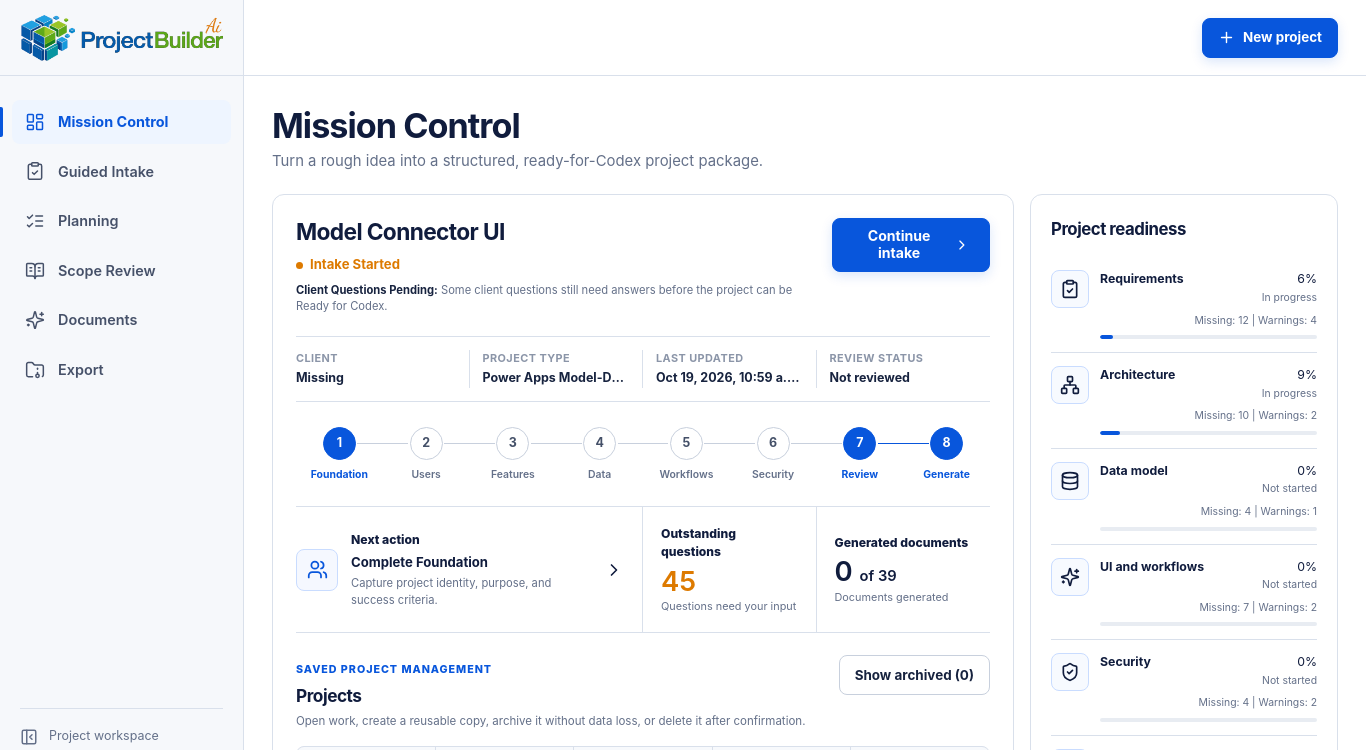
App - power Platform Model Driven › renders model-driven connector editor without legacy connector checkboxes
The image size is (1366, 750).
Click the button "4 Data".
click(600, 454)  # box [556, 426, 643, 482]
(page scrolled)
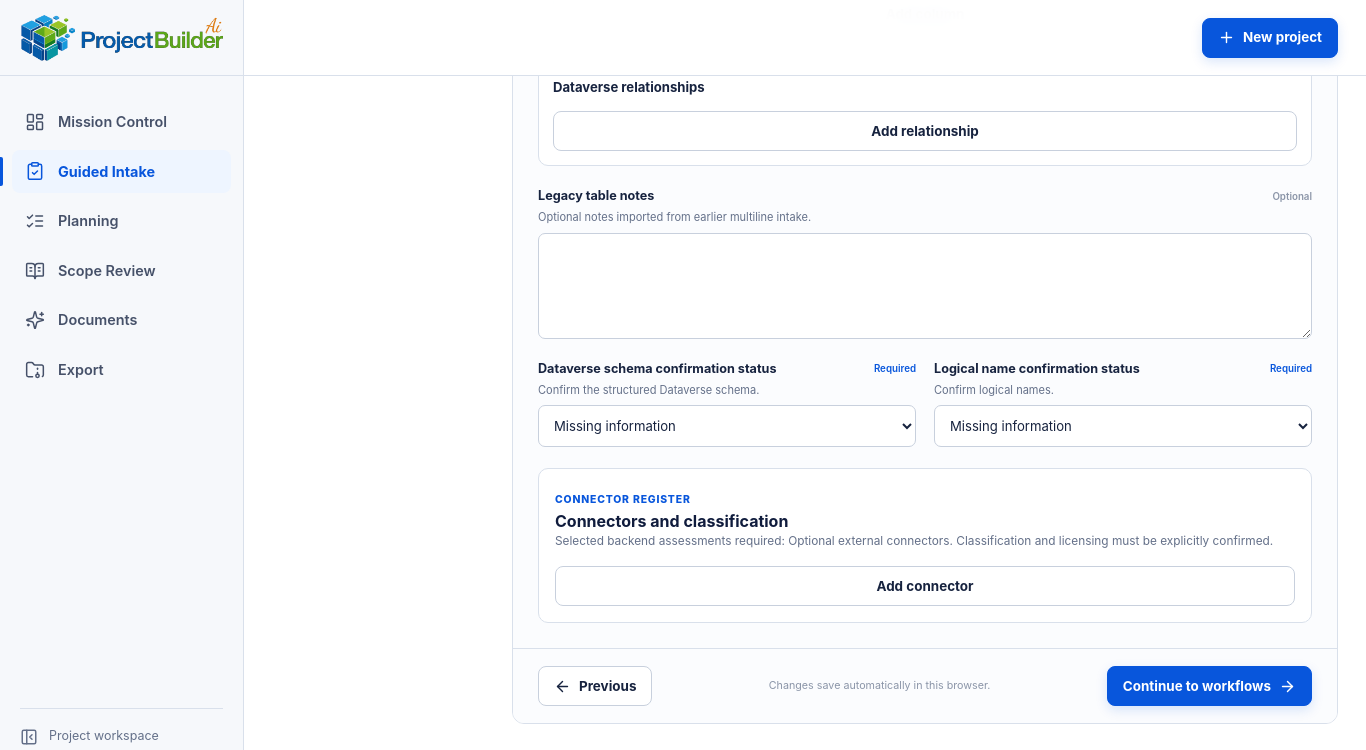
Click the button "Add connector".
click(925, 586)  # box [555, 566, 1295, 606]
(page scrolled)
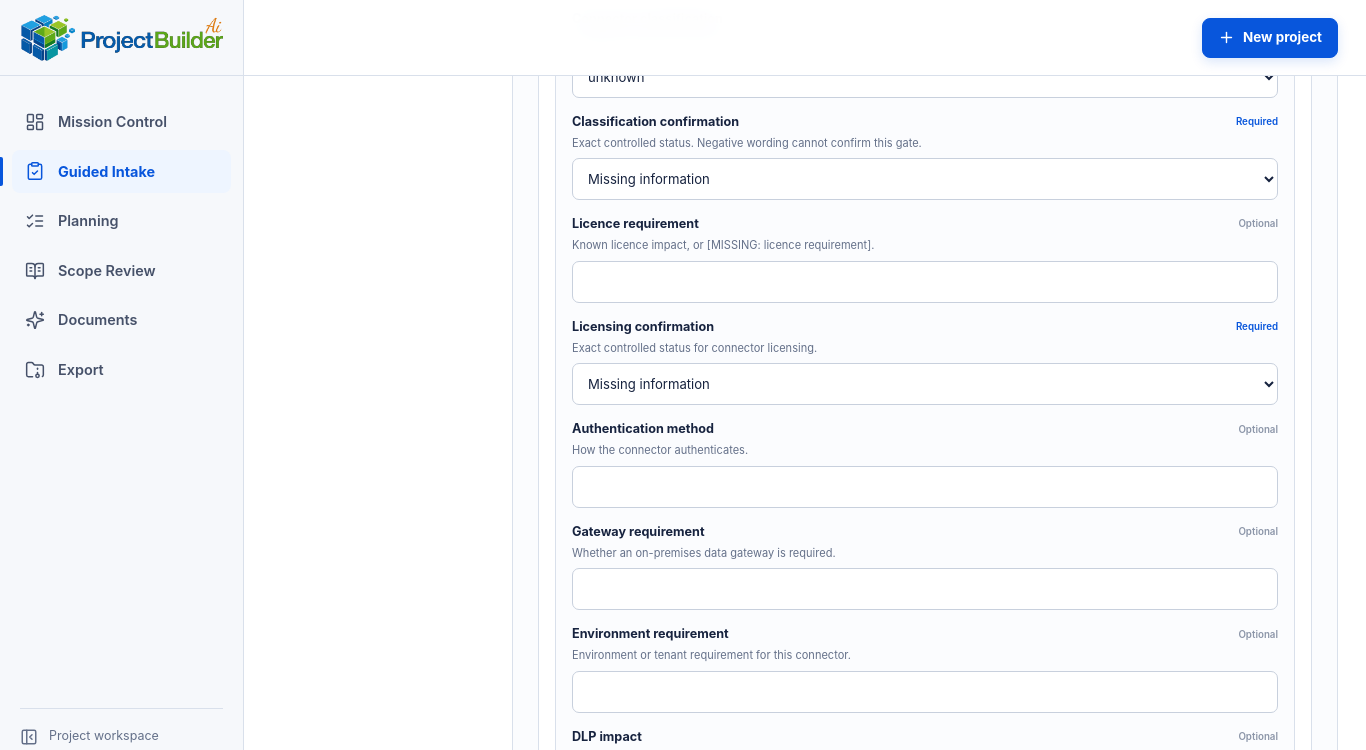
Expected: the dropdown labelled "Classification confirmation Required" is shown, [572, 158, 1278, 200]
Expected: the dropdown labelled "Licensing confirmation Required" is shown, [572, 363, 1278, 405]
